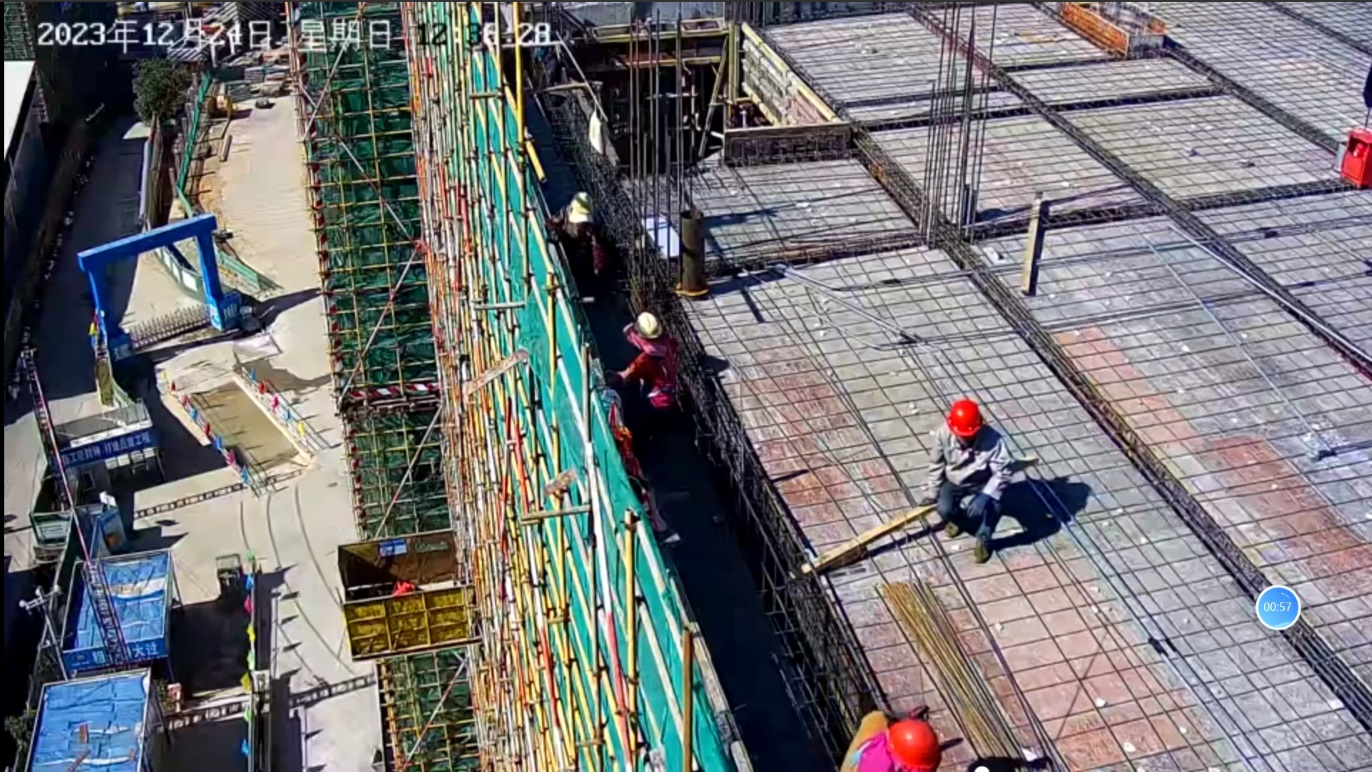person: (917, 399, 1018, 564), (606, 311, 681, 422), (829, 707, 941, 771), (544, 191, 606, 290)
